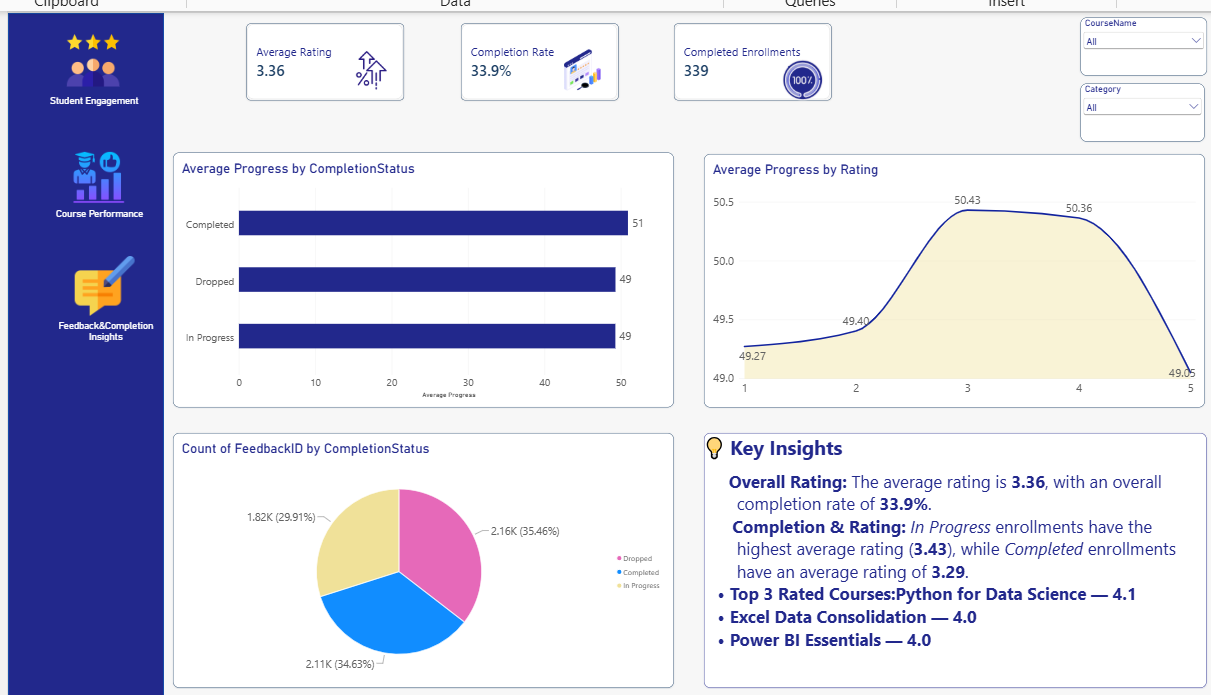

What the dashboard file says about the page in this screenshot:
{"tool":"powerbi","page":{"name":"Feedback s Completion Insights","canvas":[2300,1300],"ordinal":2},"visuals":[{"type":"cardVisual","fields":{"Data":["Measures (2).Average Rating"]},"box":[452.5,21.1,297.7,145.4],"z":0},{"type":"cardVisual","fields":{"Data":["Measures (2).Completion Rate"]},"box":[855.7,21.1,297.7,145.4],"z":1000},{"type":"cardVisual","fields":{"Data":["Measures (2).Completed Enrollments"]},"box":[1259,21.1,297.7,145.4],"z":2000},{"type":"clusteredBarChart","fields":{"Category":["FactEnrollments.CompletionStatus"],"Y":["Measures (2).Average Progress"]},"box":[312.1,263.9,947.6,482.3],"z":3000},{"type":"pieChart","fields":{"Category":["FactEnrollments.CompletionStatus"],"Y":["CountNonNull(Dimprogress&feedback.FeedbackID)"]},"box":[312.1,794.4,947.6,482.3],"z":4000},{"type":"slicer","fields":{"Values":["DimCourses.CourseName"]},"box":[2028.6,8.5,239.1,110.2],"z":5000},{"type":"slicer","fields":{"Values":["DimCourses.Category Hierarchy.Category"]},"box":[2028.6,133.3,234.4,110.2],"z":6000},{"type":"areaChart","fields":{"Category":["Dimprogress&feedback.Rating"],"Y":["Measures (2).Average Progress"]},"box":[1316.5,266.7,947.6,479.5],"z":7000},{"type":"actionButton","box":[0,0,100,40],"z":8000},{"type":"shape","box":[0,0,295.1,1299.4],"z":9000},{"type":"image","box":[99.1,38.7,123.3,99.1],"z":10000},{"type":"textbox","title":"Student Engagement","box":[79.8,154.8,203.1,70.1],"z":11000},{"type":"actionButton","box":[68,25.8,195.9,188.6],"z":12000},{"type":"image","box":[91.9,261.2,162,99.1],"z":13000},{"type":"textbox","title":"Course Performance","box":[89.5,367.6,195.9,70.1],"z":14000},{"type":"actionButton","box":[68,241.5,195.9,176.5],"z":15000},{"type":"image","box":[125.8,459.5,116.1,113.7],"z":16000},{"type":"textbox","title":"Feedback&Completion Insights","box":[89.5,582.8,188.6,75],"z":17000},{"type":"actionButton","box":[82.1,450.1,205.6,200.7],"z":18000},{"type":"image","box":[635.4,68,100.8,82.1],"z":22000},{"type":"image","box":[1043.3,65.6,84.6,84.6],"z":23000},{"type":"image","box":[1448.9,89.1,106.4,77.4],"z":24000},{"type":"textbox","box":[1316.5,794.4,950.5,482.3],"z":25000}]}

Visuals, with their boxes on the page's 2300x1300 design canvas (x1, y1, x2, y2). These are canvas units, not pixel positions in the 1211x695 screenshot, which may show the page scaled, cropped or inside an application window:
cardVisual - Measures (2).Average Rating: pyautogui.locateOnScreen(452, 21, 750, 166)
cardVisual - Measures (2).Completion Rate: pyautogui.locateOnScreen(856, 21, 1153, 166)
cardVisual - Measures (2).Completed Enrollments: pyautogui.locateOnScreen(1259, 21, 1557, 166)
clusteredBarChart - FactEnrollments.CompletionStatus x Measures (2).Average Progress: pyautogui.locateOnScreen(312, 264, 1260, 746)
pieChart - FactEnrollments.CompletionStatus x CountNonNull(Dimprogress&feedback.FeedbackID): pyautogui.locateOnScreen(312, 794, 1260, 1277)
slicer - DimCourses.CourseName: pyautogui.locateOnScreen(2029, 8, 2268, 119)
slicer - DimCourses.Category Hierarchy.Category: pyautogui.locateOnScreen(2029, 133, 2263, 244)
areaChart - Dimprogress&feedback.Rating x Measures (2).Average Progress: pyautogui.locateOnScreen(1316, 267, 2264, 746)
actionButton: pyautogui.locateOnScreen(0, 0, 100, 40)
shape: pyautogui.locateOnScreen(0, 0, 295, 1299)
image: pyautogui.locateOnScreen(99, 39, 222, 138)
"Student Engagement" textbox: pyautogui.locateOnScreen(80, 155, 283, 225)
actionButton: pyautogui.locateOnScreen(68, 26, 264, 214)
image: pyautogui.locateOnScreen(92, 261, 254, 360)
"Course Performance" textbox: pyautogui.locateOnScreen(90, 368, 285, 438)
actionButton: pyautogui.locateOnScreen(68, 242, 264, 418)
image: pyautogui.locateOnScreen(126, 460, 242, 573)
"Feedback&Completion Insights" textbox: pyautogui.locateOnScreen(90, 583, 278, 658)
actionButton: pyautogui.locateOnScreen(82, 450, 288, 651)
image: pyautogui.locateOnScreen(635, 68, 736, 150)
image: pyautogui.locateOnScreen(1043, 66, 1128, 150)
image: pyautogui.locateOnScreen(1449, 89, 1555, 166)
textbox: pyautogui.locateOnScreen(1316, 794, 2267, 1277)
